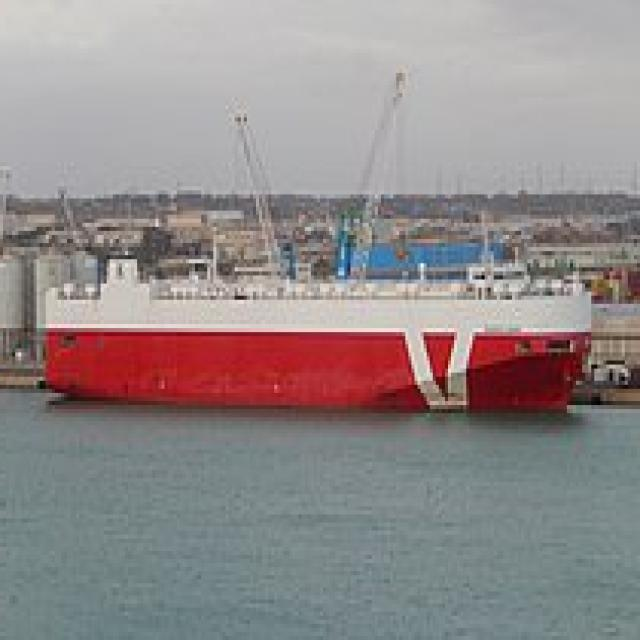Carrier: (43, 239, 600, 417)
